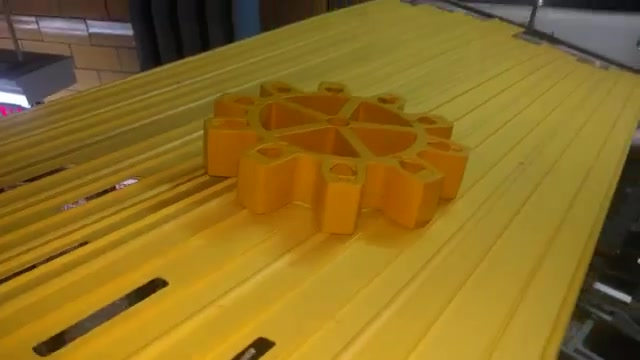gear: (195, 67, 479, 274)
